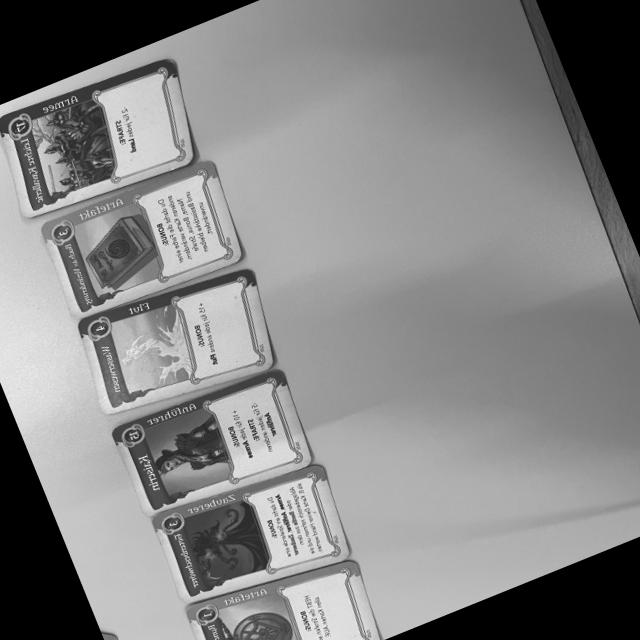Book Of Changes: (38, 156, 246, 320)
Dwarvish Infantry: (0, 56, 194, 220)
Elemental Enchantress: (148, 463, 350, 604)
Empress: (106, 366, 313, 517)
Rune Of Protection: (183, 558, 380, 640)
Water Elemental: (75, 267, 274, 415)
